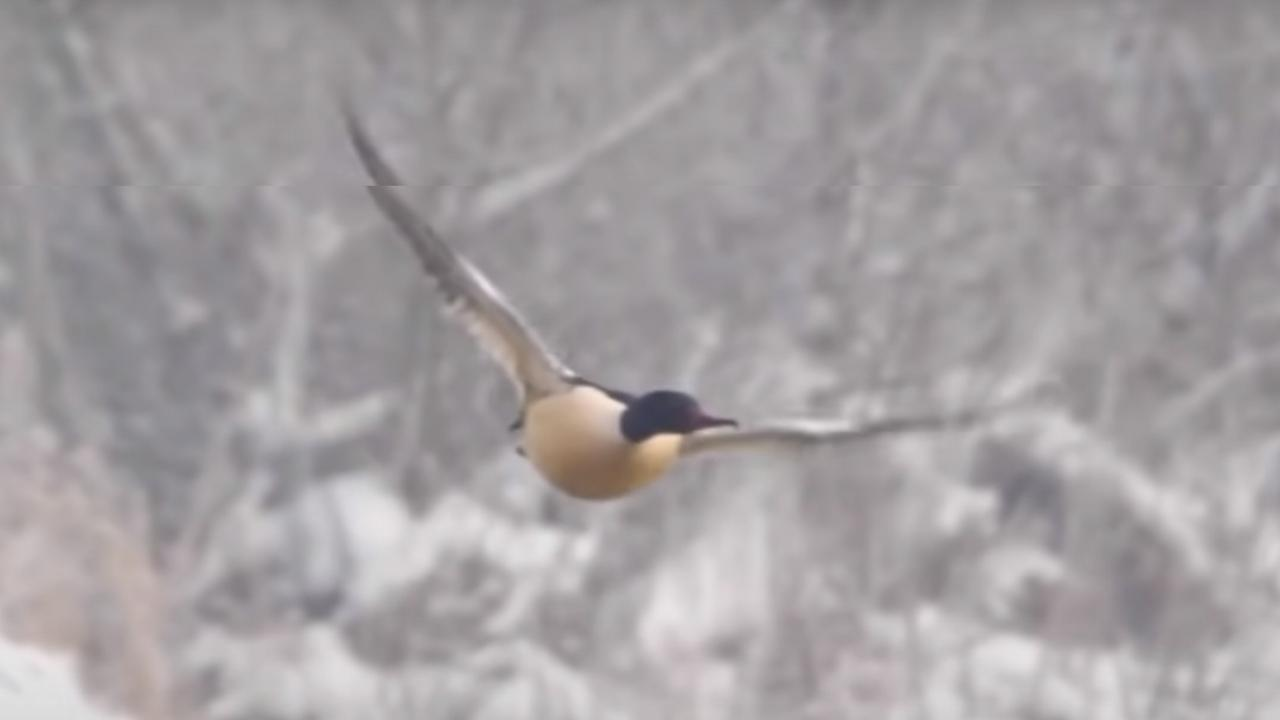Bird: (328, 80, 1062, 516)
